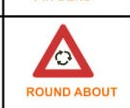Traffic signal: (32, 24, 97, 79)
